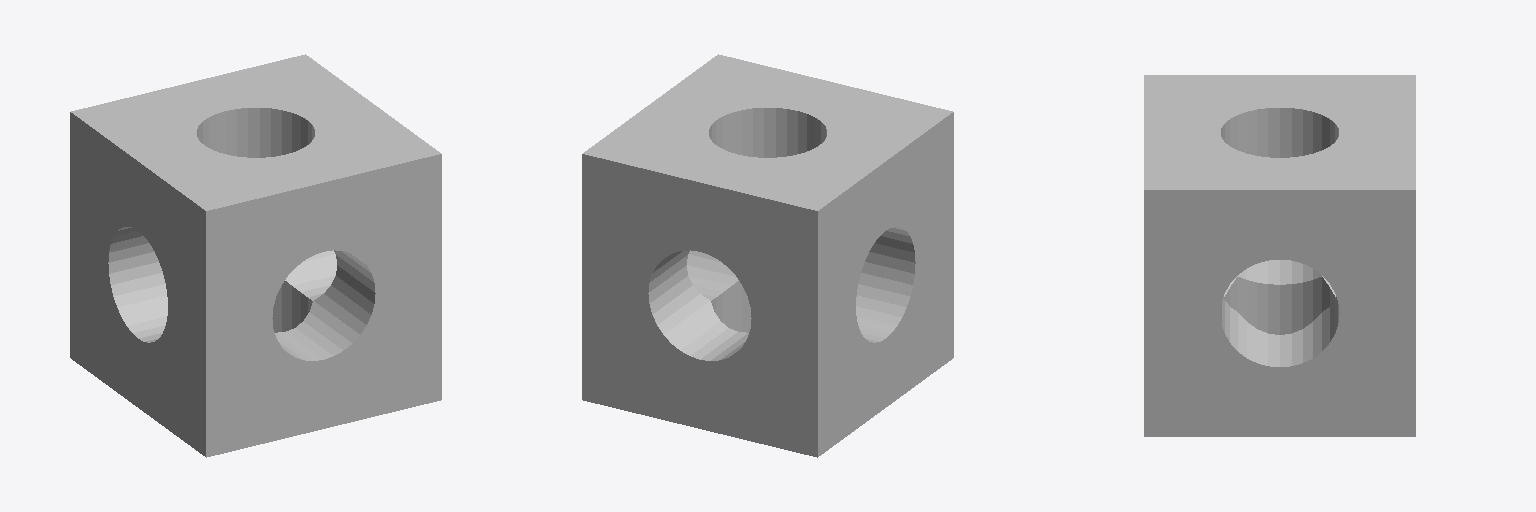
The model's file is Holzwuerfel2.obj.
3 views of the same model, side by side, from view 1: azimuth 30°, elevation 25°; view 2: azimuth 150°, elevation 25°; view 3: azimuth 270°, elevation 25° (orthographic).
Visible parts, largest first — view 1: Holzwürfel.002_Cube.033; view 2: Holzwürfel.002_Cube.033; view 3: Holzwürfel.002_Cube.033.
Part boxes in pixels (bbox=[...]): Holzwürfel.002_Cube.033: bbox=[70, 54, 441, 457]; Holzwürfel.002_Cube.033: bbox=[582, 54, 953, 457]; Holzwürfel.002_Cube.033: bbox=[1144, 75, 1415, 436].
Size of the model in its own units: 0.5332 by 0.5332 by 0.5332.